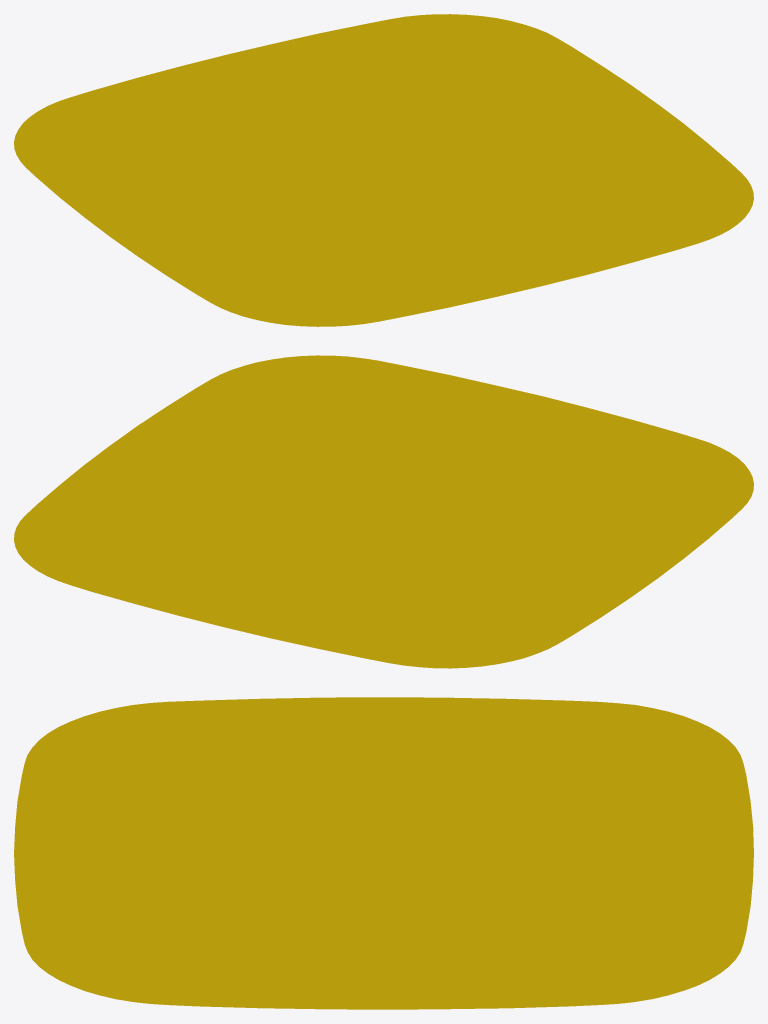
The model's file is original-3.obj.
3 renders of one model, top to bottom at view 1: azimuth 30°, elevation 25°; view 2: azimuth 150°, elevation 25°; view 3: azimuth 270°, elevation 25°, orthographic. The views are drawn at different scales.
Visible parts, largest first — view 1: group_2/ID20#ID20; view 2: group_2/ID20#ID20; view 3: group_2/ID20#ID20.
Part boxes in pixels (box(x1,y1,x2,y2)): group_2/ID20#ID20: box(14, 14, 753, 326); group_2/ID20#ID20: box(14, 355, 753, 668); group_2/ID20#ID20: box(14, 697, 753, 1009).
Size of the model in its own units: 0.5218 by 0.000193 by 0.5223.
